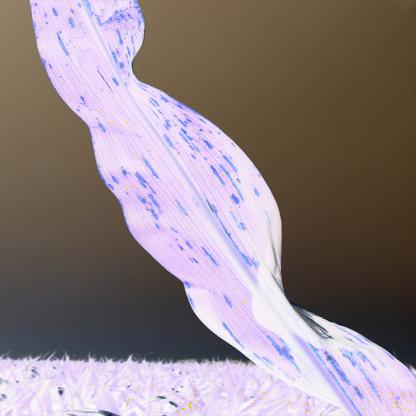corn leaf blight: (30, 1, 411, 411)
